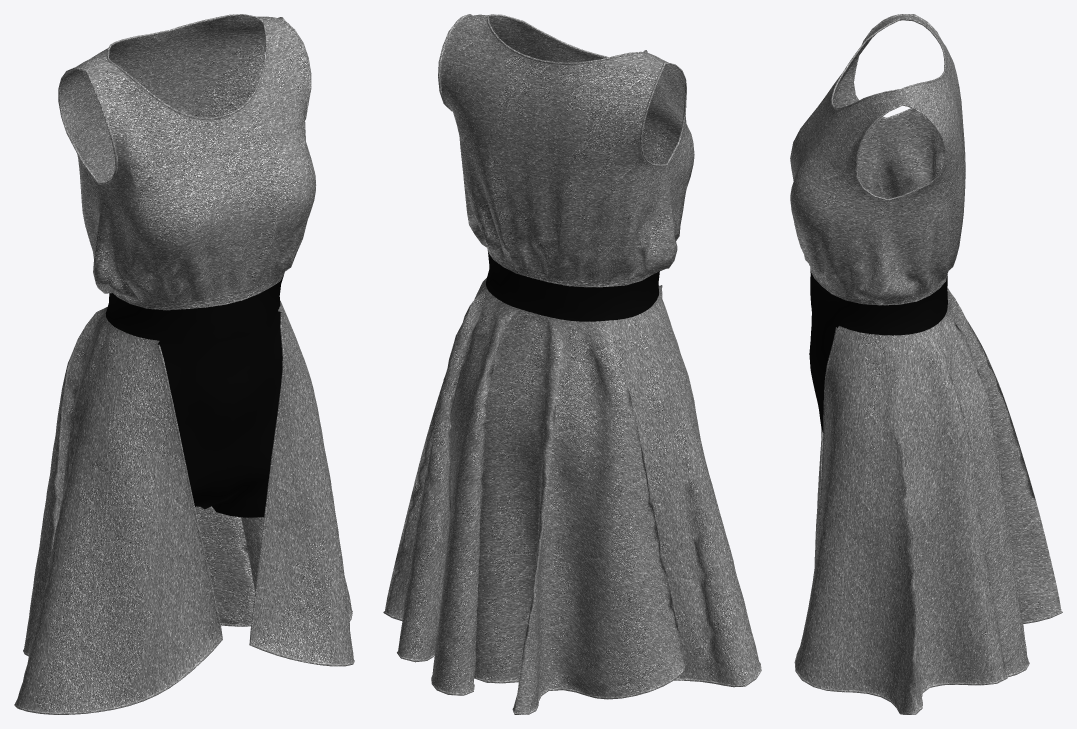
Rendered from w_dress.glb.
The picture shows the model from 3 angles, left to right: view 1: azimuth 30°, elevation 25°; view 2: azimuth 150°, elevation 25°; view 3: azimuth 270°, elevation 25°; orthographic projection. The views are drawn at different scales.
Visible parts, largest first — view 1: Object_3, Object_2; view 2: Object_3, Object_2; view 3: Object_3, Object_2.
Part boxes in pixels (x1,y1,x2,y2): Object_3: (14, 14, 354, 714); Object_2: (105, 275, 283, 517); Object_3: (383, 14, 761, 714); Object_2: (486, 252, 659, 321); Object_3: (790, 14, 1062, 714); Object_2: (809, 271, 947, 432).
Bounding box in the file's own units: 52.96 × 90.23 × 37.62.
Materials: 2 (1 with a texture image).
